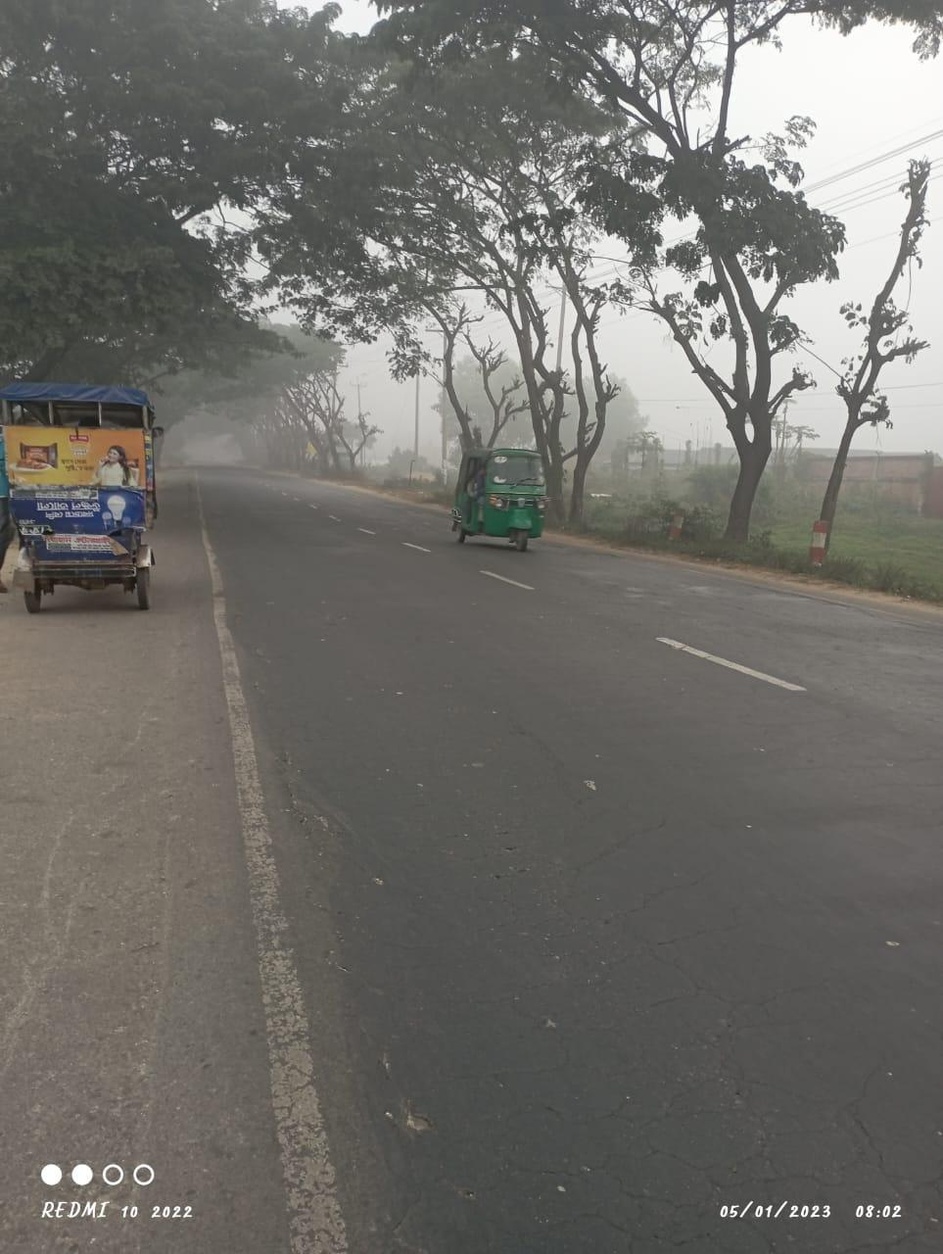Car: (2, 371, 165, 619)
